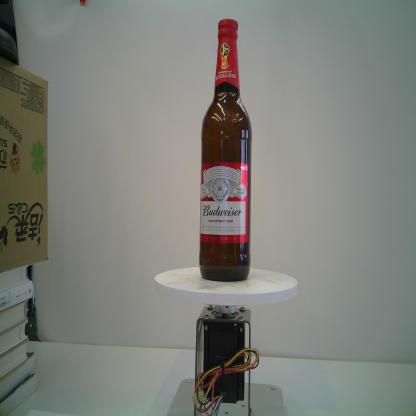Alcohol: (198, 17, 252, 284)
